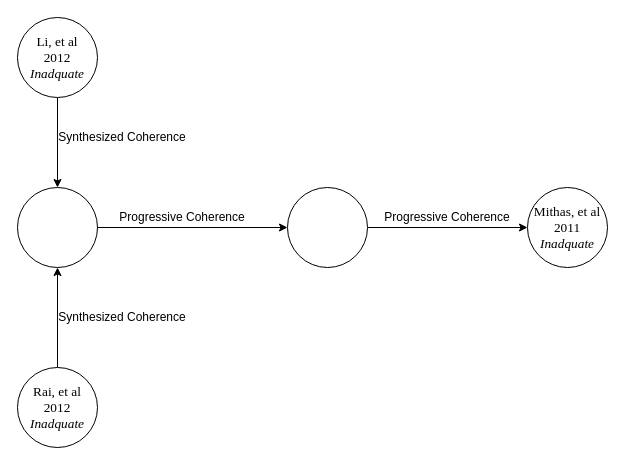
The diagram is 625 pixels wide and 465 high, and some of its shapes have lost their labels. Here are the shapes that lost their labels. From the top down, the box of each, then its label:
(16, 186, 98, 268): Mata, et al 1995 Incomplete
(286, 186, 368, 268): Bharadwaj 2000 Inadquate
